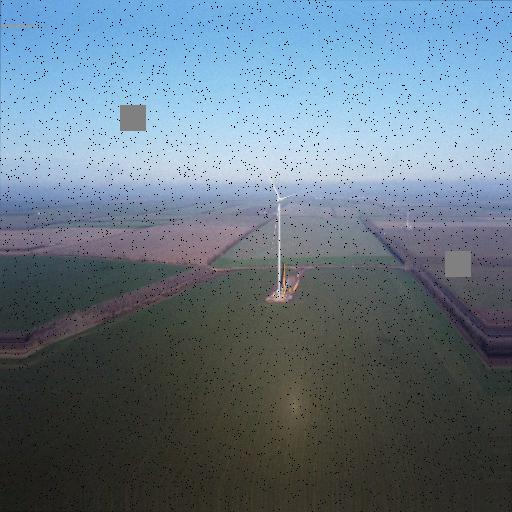wind turbine: (257, 157, 299, 294)
